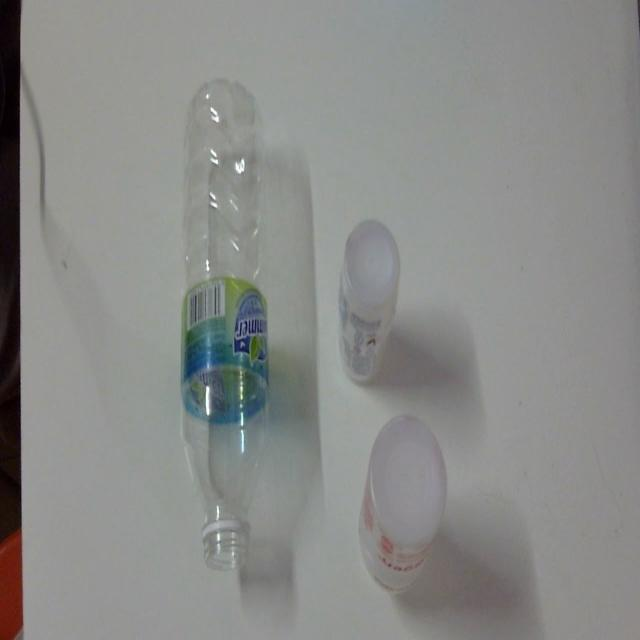plastic_laydown_90rotation: (159, 68, 294, 587)
plastic_standrotation: (354, 403, 452, 604), (332, 209, 407, 383)
